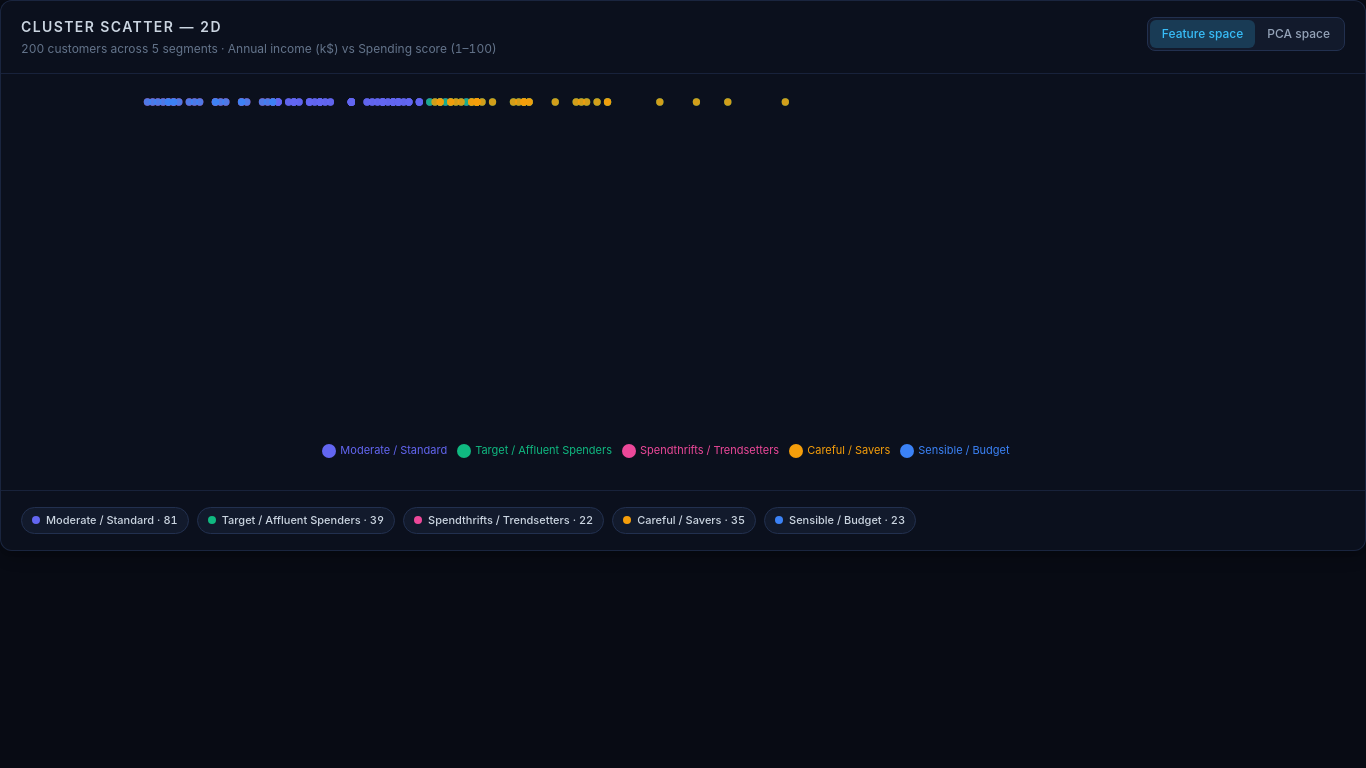
Test case: ClusterVisualizer2D › renders a scatter point for every customer and switches projection
Click the button "PCA space".
click(1299, 34)  # box [1255, 20, 1342, 48]
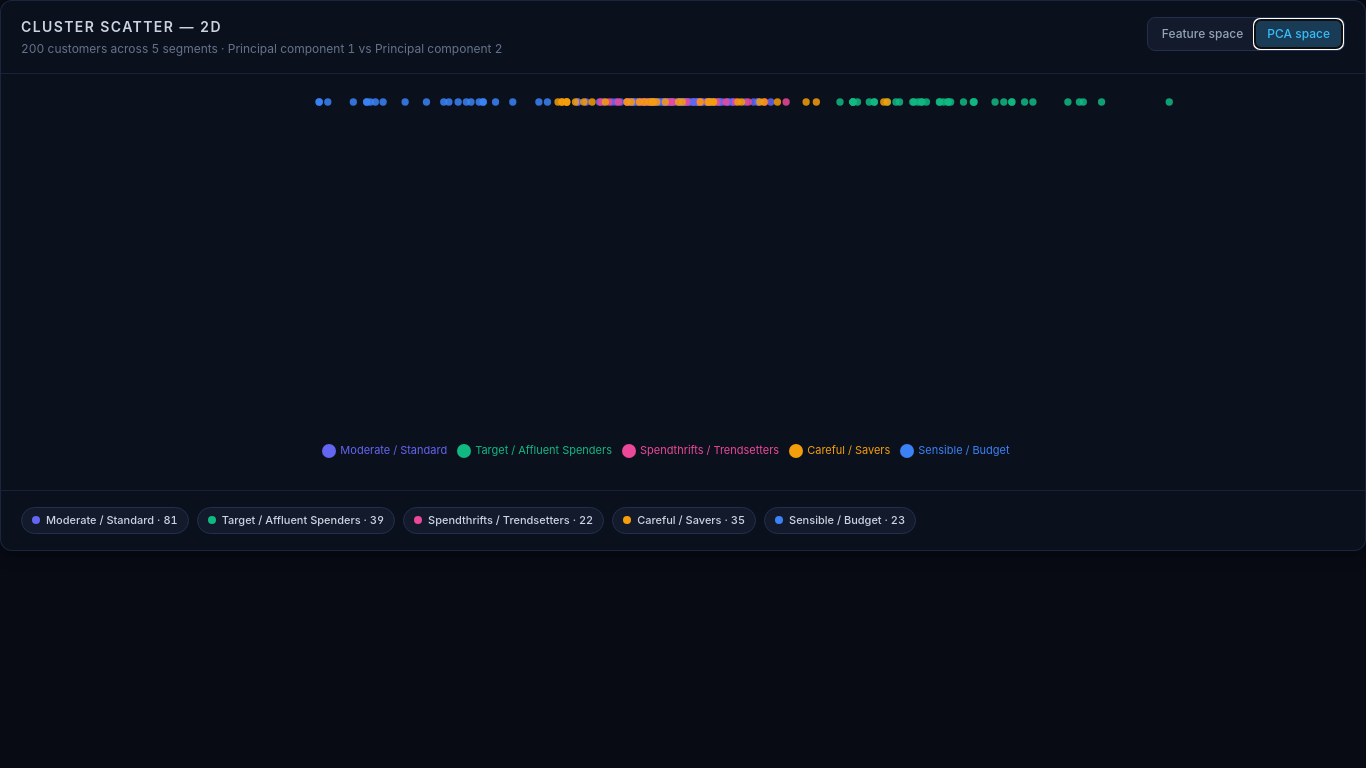
Expected: the text "Principal component 1" is shown, [228, 41, 355, 56]
